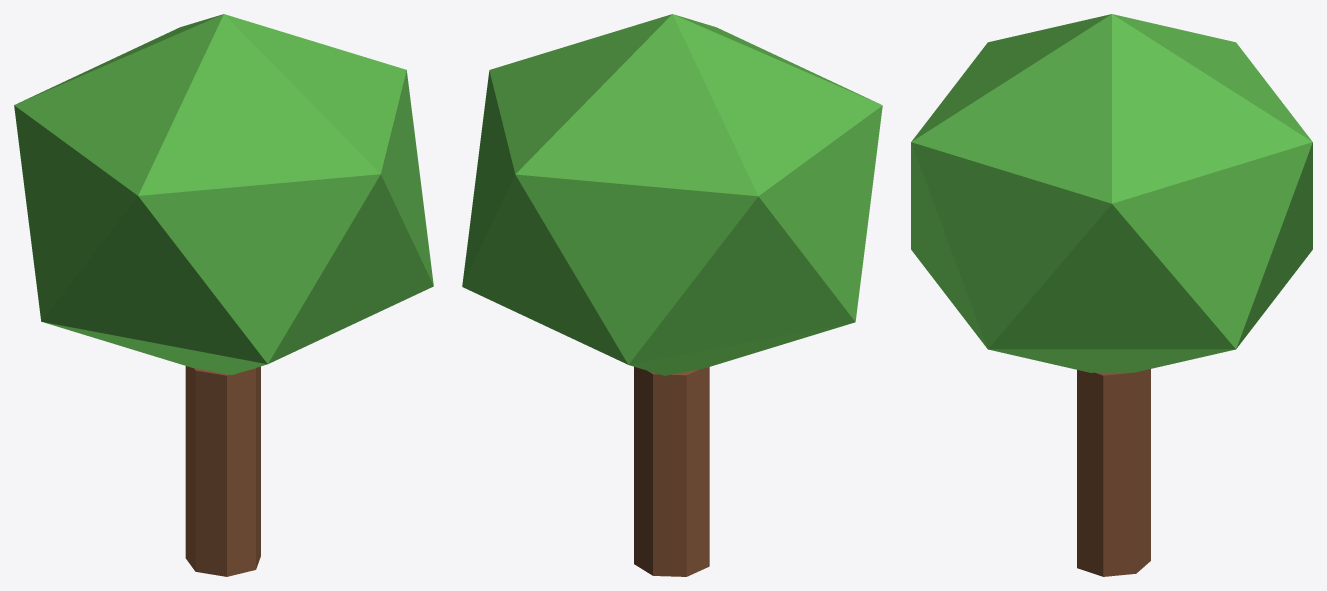
File: tree_b.glb
3 views of the same model, side by side, from view 1: azimuth 30°, elevation 25°; view 2: azimuth 150°, elevation 25°; view 3: azimuth 270°, elevation 25° (orthographic).
Parts seen in each view (by area): view 1: TreeB; view 2: TreeB; view 3: TreeB.
Boxes of the visible parts, x1,y1,x2,y2 form: TreeB: [14, 14, 433, 576]; TreeB: [462, 14, 882, 576]; TreeB: [911, 14, 1312, 576].
Bounding box in the file's own units: 1.52 × 2.17 × 1.45.
